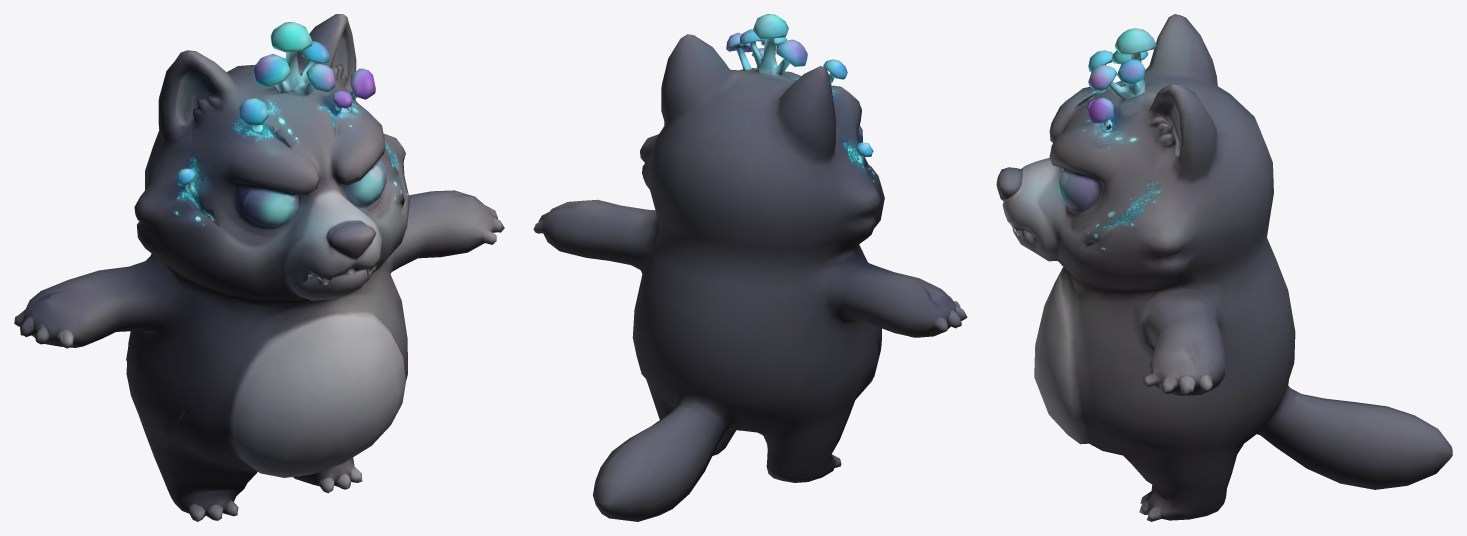
Rendered from wolf_fungi.glb.
3 renders of one model, left to right at view 1: azimuth 30°, elevation 25°; view 2: azimuth 150°, elevation 25°; view 3: azimuth 270°, elevation 25°, orthographic. The views are drawn at different scales.
Visible parts, largest first — view 1: tripo_node_90d47ec0-65c2-4a88-8147-fac143deda5a; view 2: tripo_node_90d47ec0-65c2-4a88-8147-fac143deda5a; view 3: tripo_node_90d47ec0-65c2-4a88-8147-fac143deda5a.
Boxes of the visible parts, bbox=[...] form: tripo_node_90d47ec0-65c2-4a88-8147-fac143deda5a: bbox=[14, 14, 504, 521]; tripo_node_90d47ec0-65c2-4a88-8147-fac143deda5a: bbox=[533, 14, 967, 521]; tripo_node_90d47ec0-65c2-4a88-8147-fac143deda5a: bbox=[996, 14, 1452, 521].
Size of the model in its own units: 0.9797 by 0.9491 by 0.857.
Materials: 1 (1 with a texture image).
